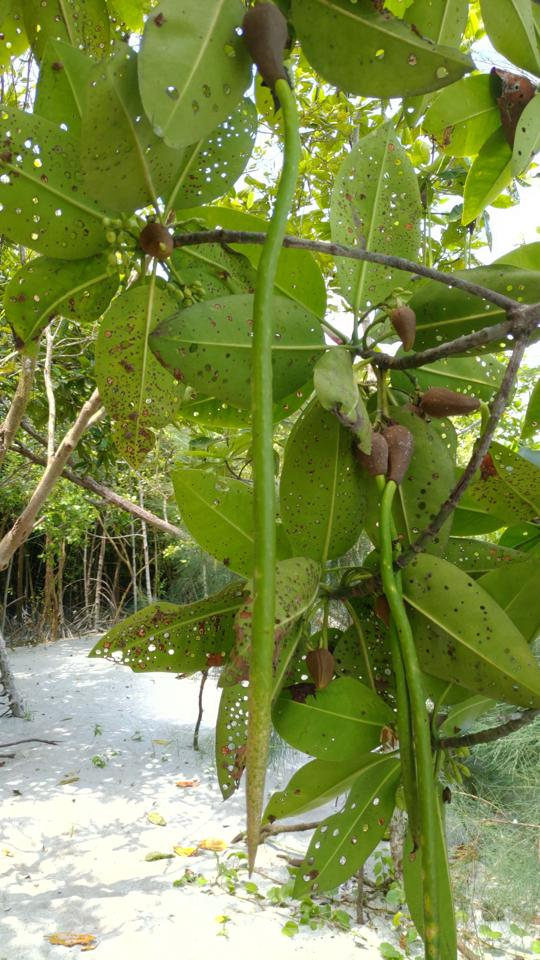mentah: (198, 1, 322, 895)
